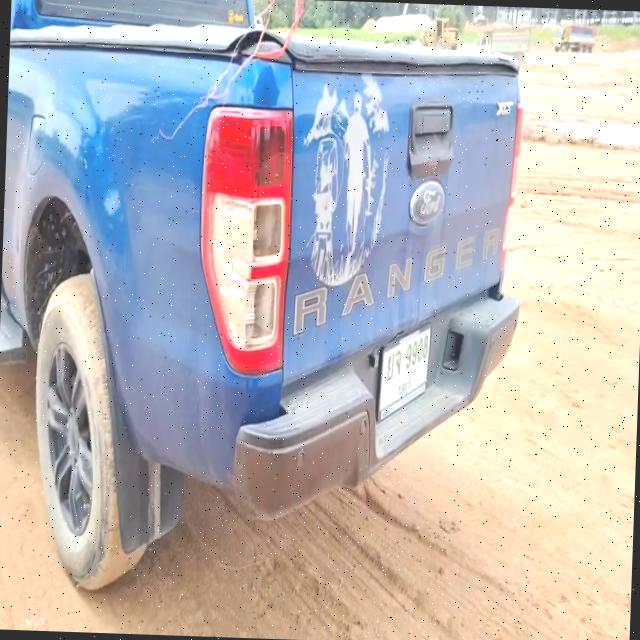Digit: (406, 332, 428, 370)
Licenseplate: (375, 319, 434, 427)
Provincename: (398, 373, 411, 398)
Thaichar: (386, 349, 402, 384)
